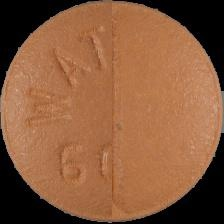60429-277: (0, 0, 224, 224)
